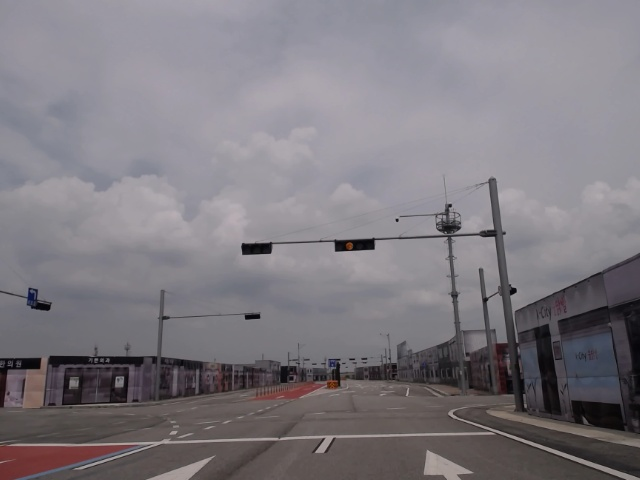orange_4: (333, 237, 376, 252)
